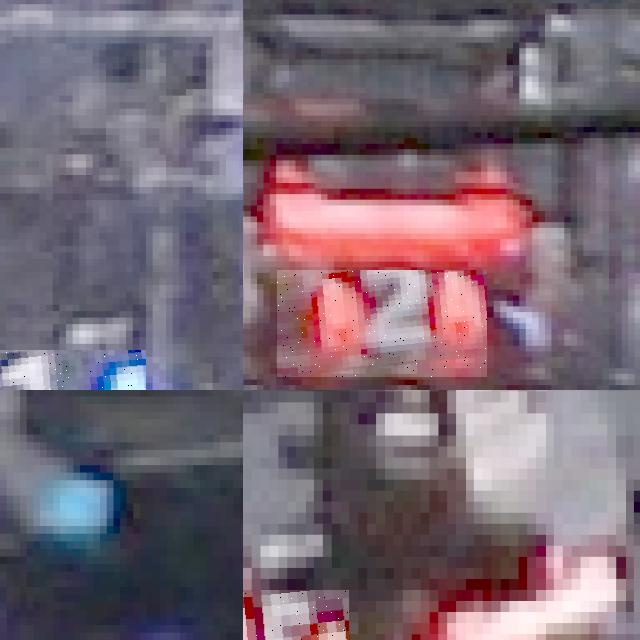B1: (0, 350, 146, 390)
R2: (277, 270, 487, 377)
R5: (243, 589, 349, 640)
